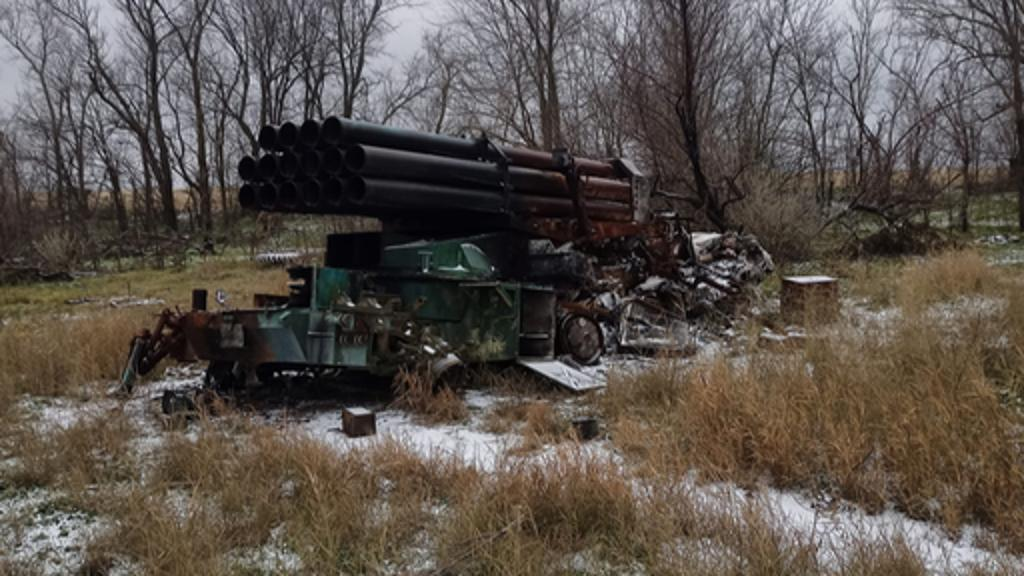MLRS: (184, 114, 776, 396)
